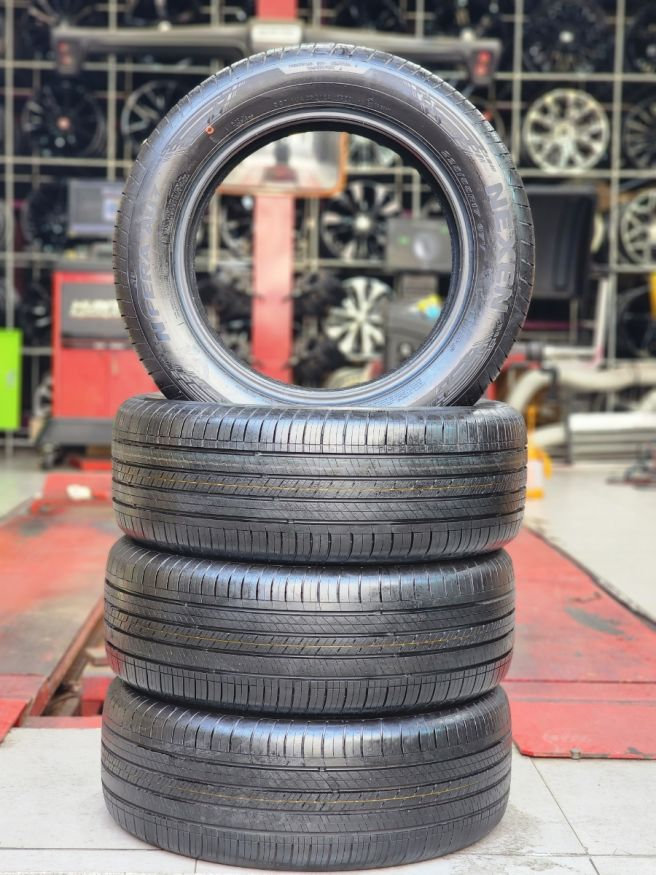new_condition: (107, 394, 532, 559), (105, 558, 517, 707), (105, 708, 520, 855)
